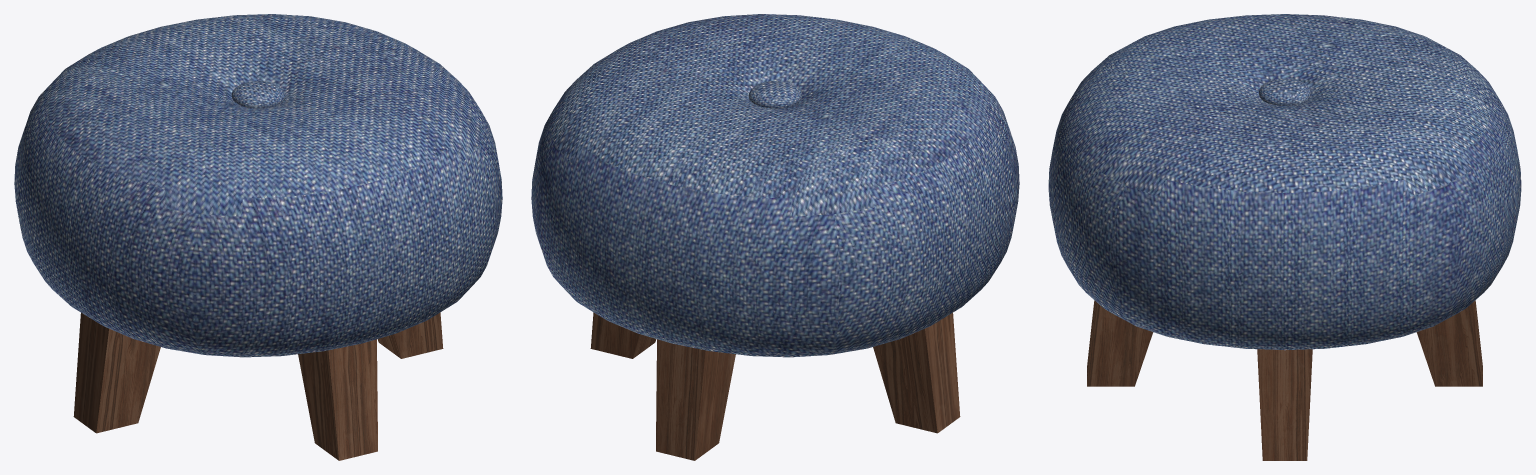
The model's file is Otomano_Coworking2.fbx.
3 renders of one model, left to right at view 1: azimuth 30°, elevation 25°; view 2: azimuth 150°, elevation 25°; view 3: azimuth 270°, elevation 25°, orthographic.
Parts seen in each view (by area): view 1: Otomano.001; view 2: Otomano.001; view 3: Otomano.001.
Boxes of the visible parts, box(x1,y1,x2,y2) form: Otomano.001: box(14, 14, 502, 460); Otomano.001: box(531, 14, 1019, 460); Otomano.001: box(1048, 14, 1521, 460).
Bounding box in the file's own units: 58.88 × 40.86 × 58.88.
